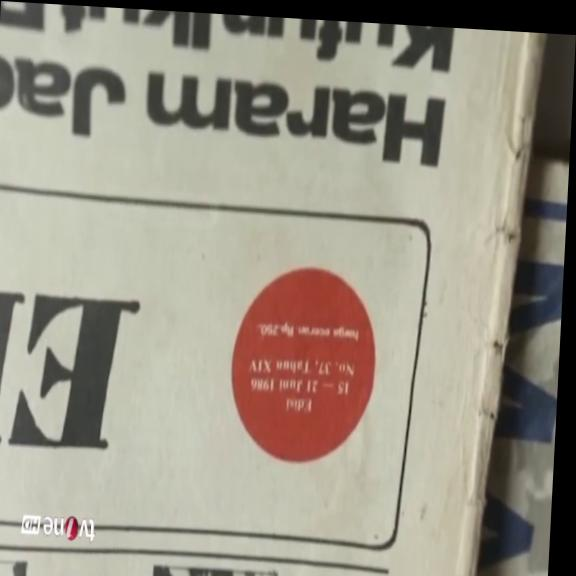Kertas: (0, 2, 499, 576)
